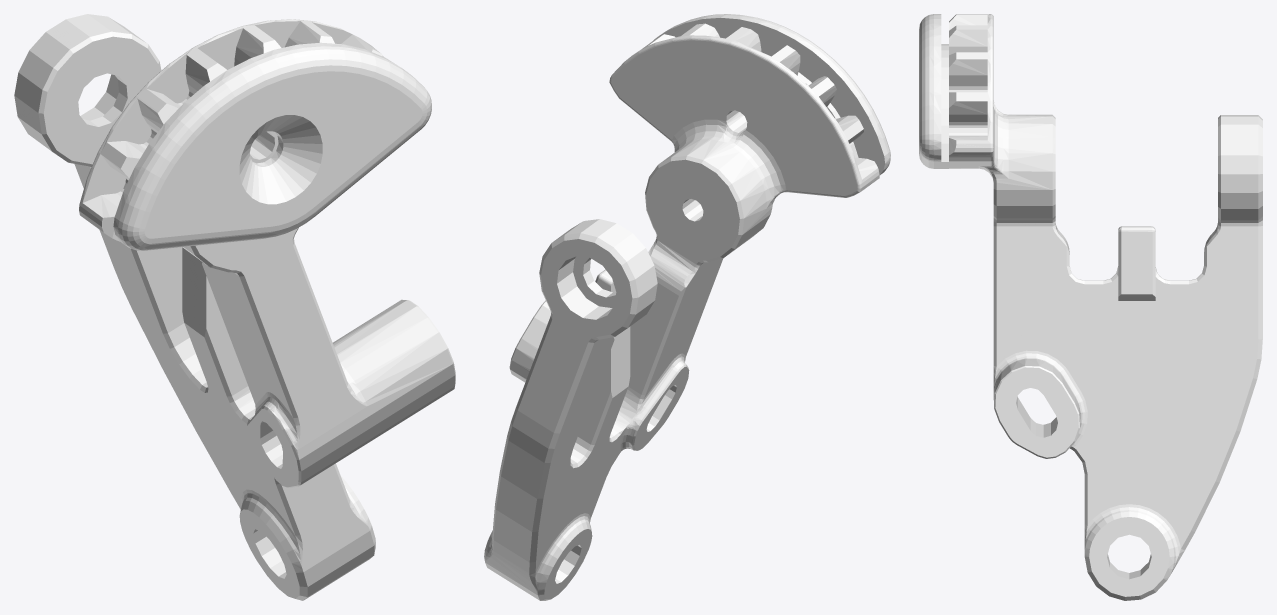
File: lh_thumb_metacarpals_base2_vis.obj
3 renders of one model, left to right at view 1: azimuth 30°, elevation 25°; view 2: azimuth 150°, elevation 25°; view 3: azimuth 270°, elevation 25°, orthographic. The views are drawn at different scales.
Visible parts, largest first — view 1: lh_thumb_metacarpals_base2; view 2: lh_thumb_metacarpals_base2; view 3: lh_thumb_metacarpals_base2.
Part boxes in pixels (left/top/right/bottom): lh_thumb_metacarpals_base2: left=14, top=14, right=455, bottom=600; lh_thumb_metacarpals_base2: left=484, top=14, right=890, bottom=600; lh_thumb_metacarpals_base2: left=919, top=14, right=1262, bottom=600.
Size of the model in its own units: 0.0237 by 0.0383 by 0.023.
1 material, 1 textured.
